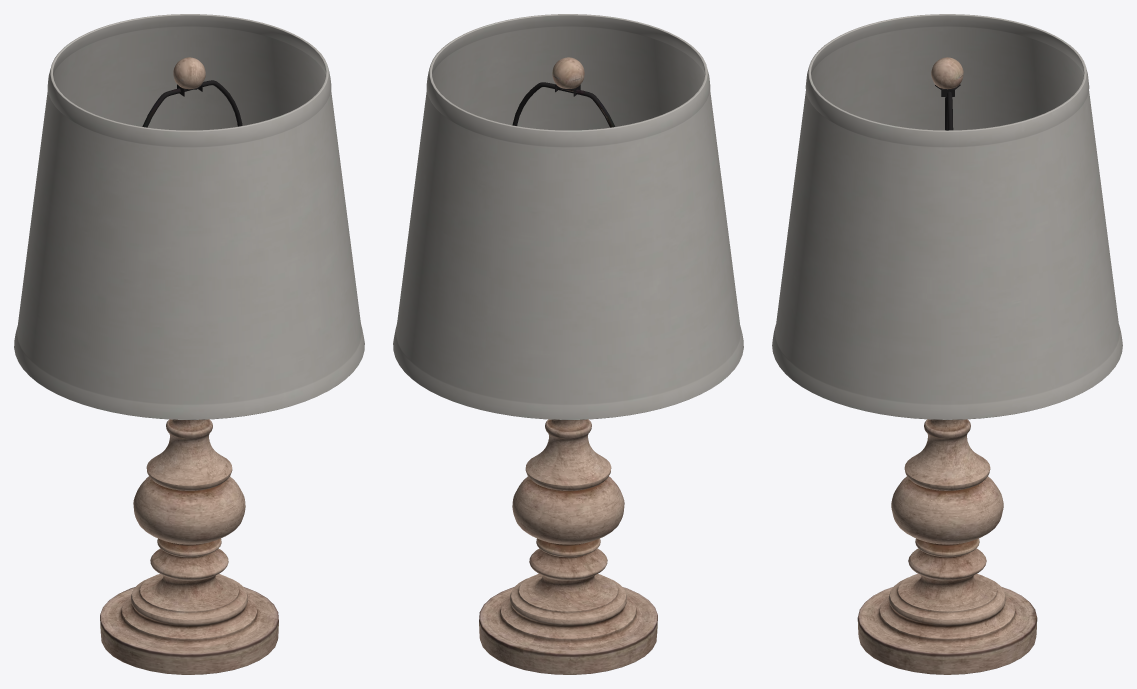
The model's file is abo-B075X1T4ZS.glb.
The picture shows the model from 3 angles, left to right: view 1: azimuth 30°, elevation 25°; view 2: azimuth 150°, elevation 25°; view 3: azimuth 270°, elevation 25°; orthographic projection.
Bounding box in the file's own units: 0.273 × 0.497 × 0.273.
1 material, 1 textured.
